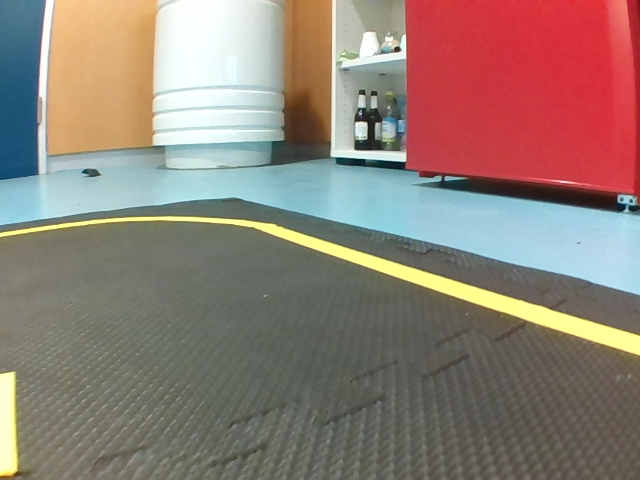no30: (451, 44, 501, 132)
stop: (160, 82, 213, 131)
